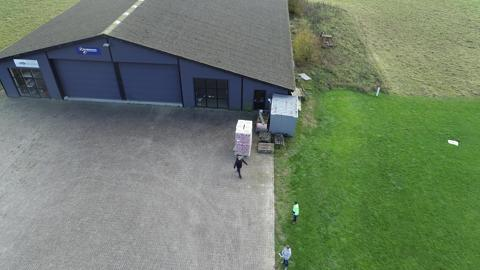RockwoolPallet: (236, 119, 253, 155)
